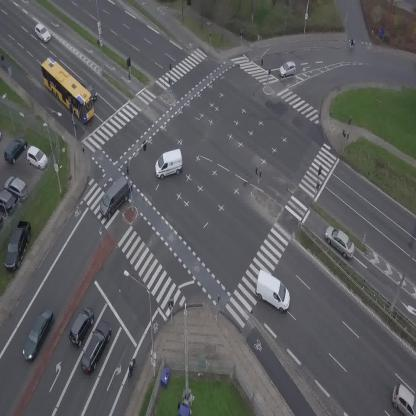bicycle: (125, 357, 137, 380), (345, 38, 358, 51), (0, 54, 6, 68)
bus: (33, 54, 103, 125)
car: (17, 305, 58, 364), (76, 318, 117, 377), (319, 222, 361, 262), (64, 304, 99, 349), (392, 383, 416, 416), (79, 77, 100, 102), (31, 22, 53, 44), (279, 61, 296, 77)
lorry: (247, 268, 299, 315), (91, 175, 137, 221), (151, 148, 187, 180)
